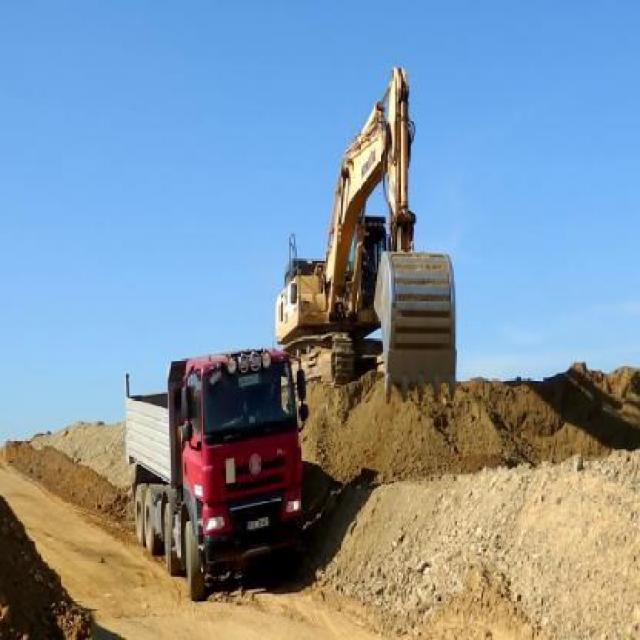Dump Truck: (123, 342, 309, 604)
Excavator: (274, 64, 457, 401)
